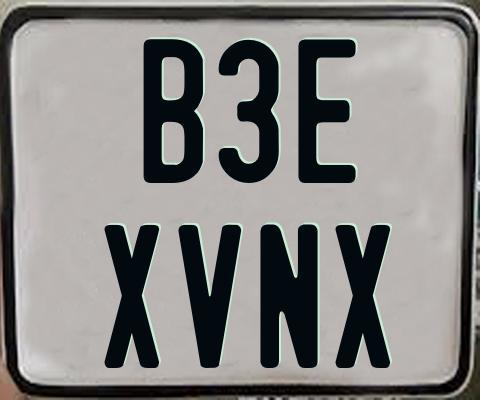3: (217, 40, 282, 187)
B: (142, 39, 204, 184)
E: (298, 37, 362, 183)
N: (260, 224, 320, 374)
V: (176, 225, 245, 370)
X: (101, 224, 156, 372), (332, 225, 387, 368)
